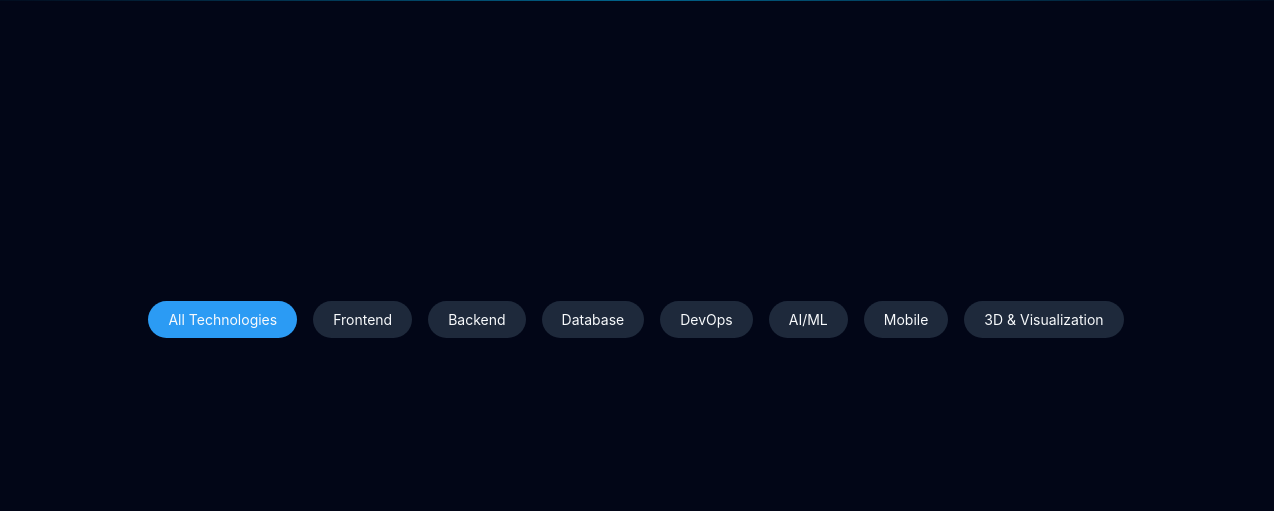
Test: TechStack › filters technologies when backend category is selected
Click the button "Backend" at (477, 320), box [428,301,526,338]
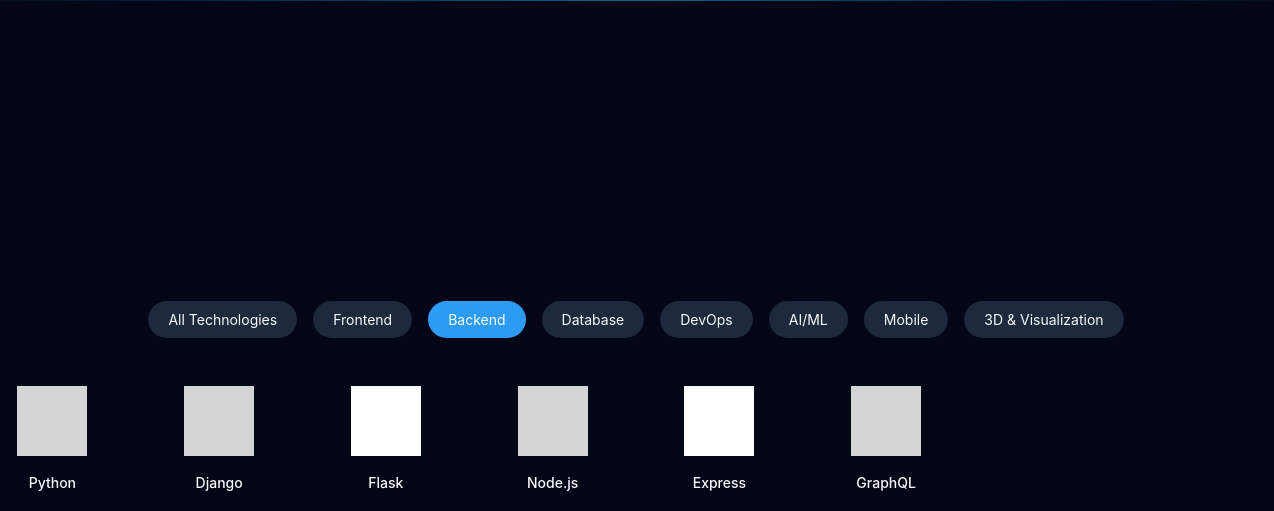
Now the text "Python" is shown, box [29,472,76,495]
Now the text "Django" is shown, box [196,472,243,495]
Now the text "Node.js" is shown, box [527,472,578,495]
